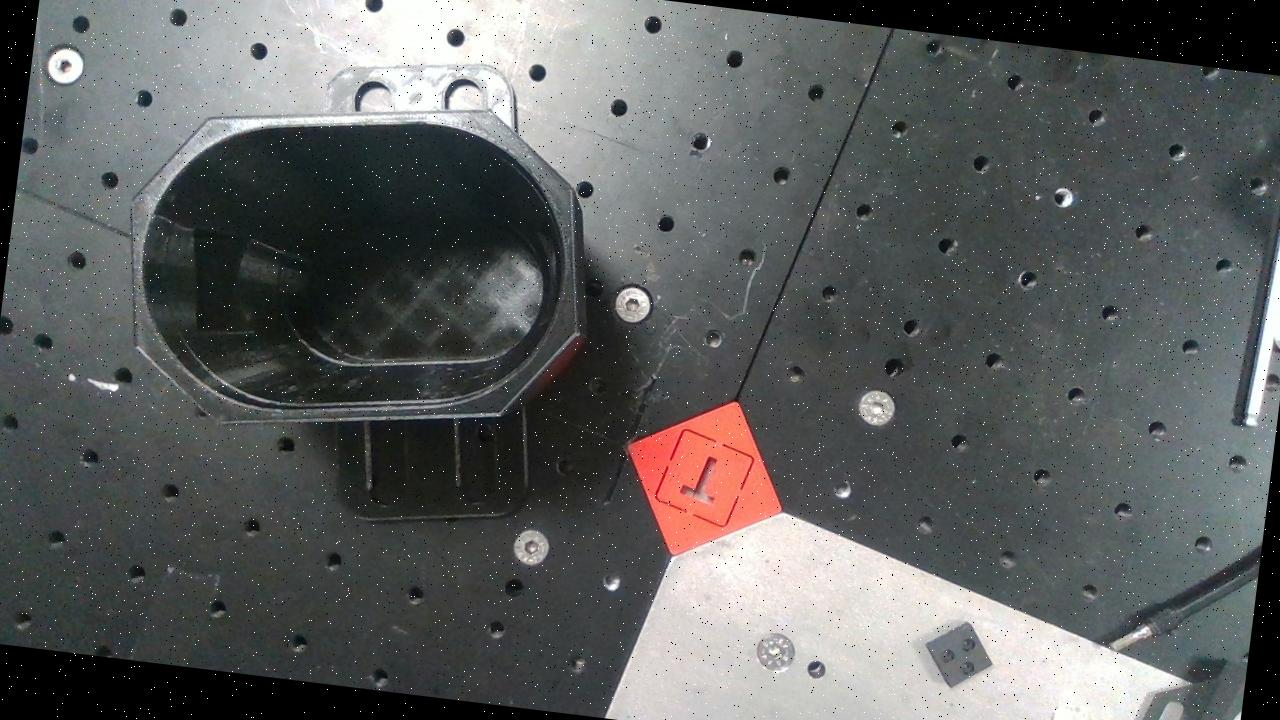small_interface: (106, 65, 606, 470)
